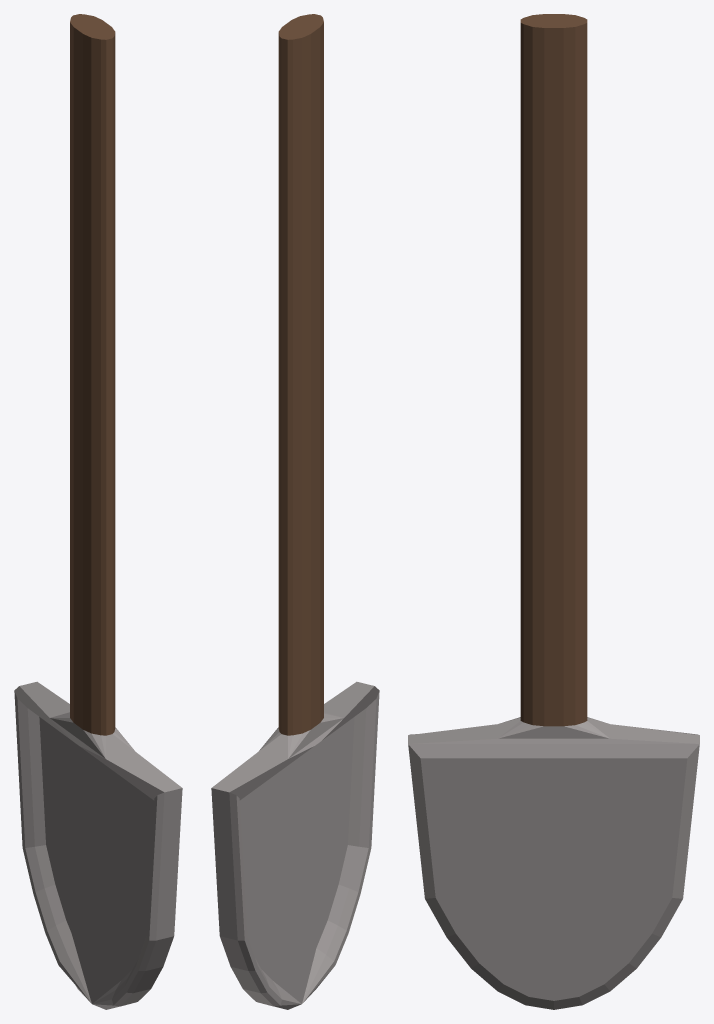
File: Shovel.fbx
3 renders of one model, left to right at view 1: azimuth 30°, elevation 25°; view 2: azimuth 150°, elevation 25°; view 3: azimuth 270°, elevation 25°, orthographic.
Visible parts, largest first — view 1: Cube; view 2: Cube; view 3: Cube.
Part boxes in pixels (box(x1,y1,x2,y2)): Cube: box(14, 14, 182, 1009); Cube: box(211, 14, 379, 1009); Cube: box(408, 14, 699, 1009).
Size of the model in its own units: 27.71 by 647 by 174.
